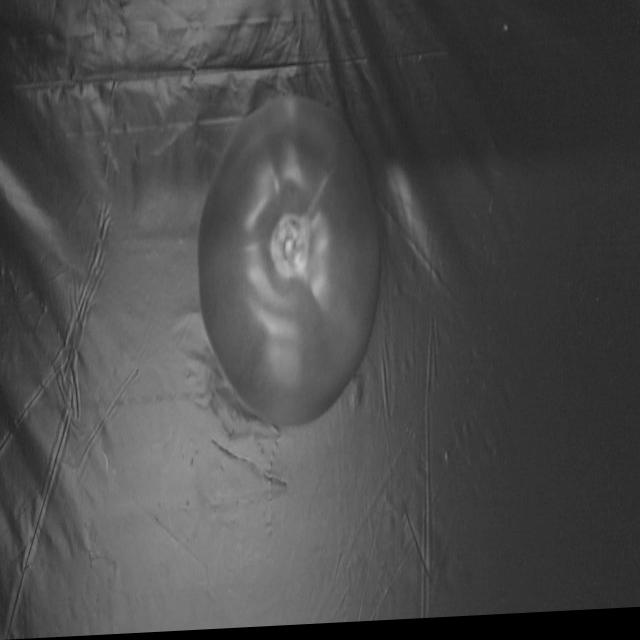kirmizi: (194, 90, 400, 466)
